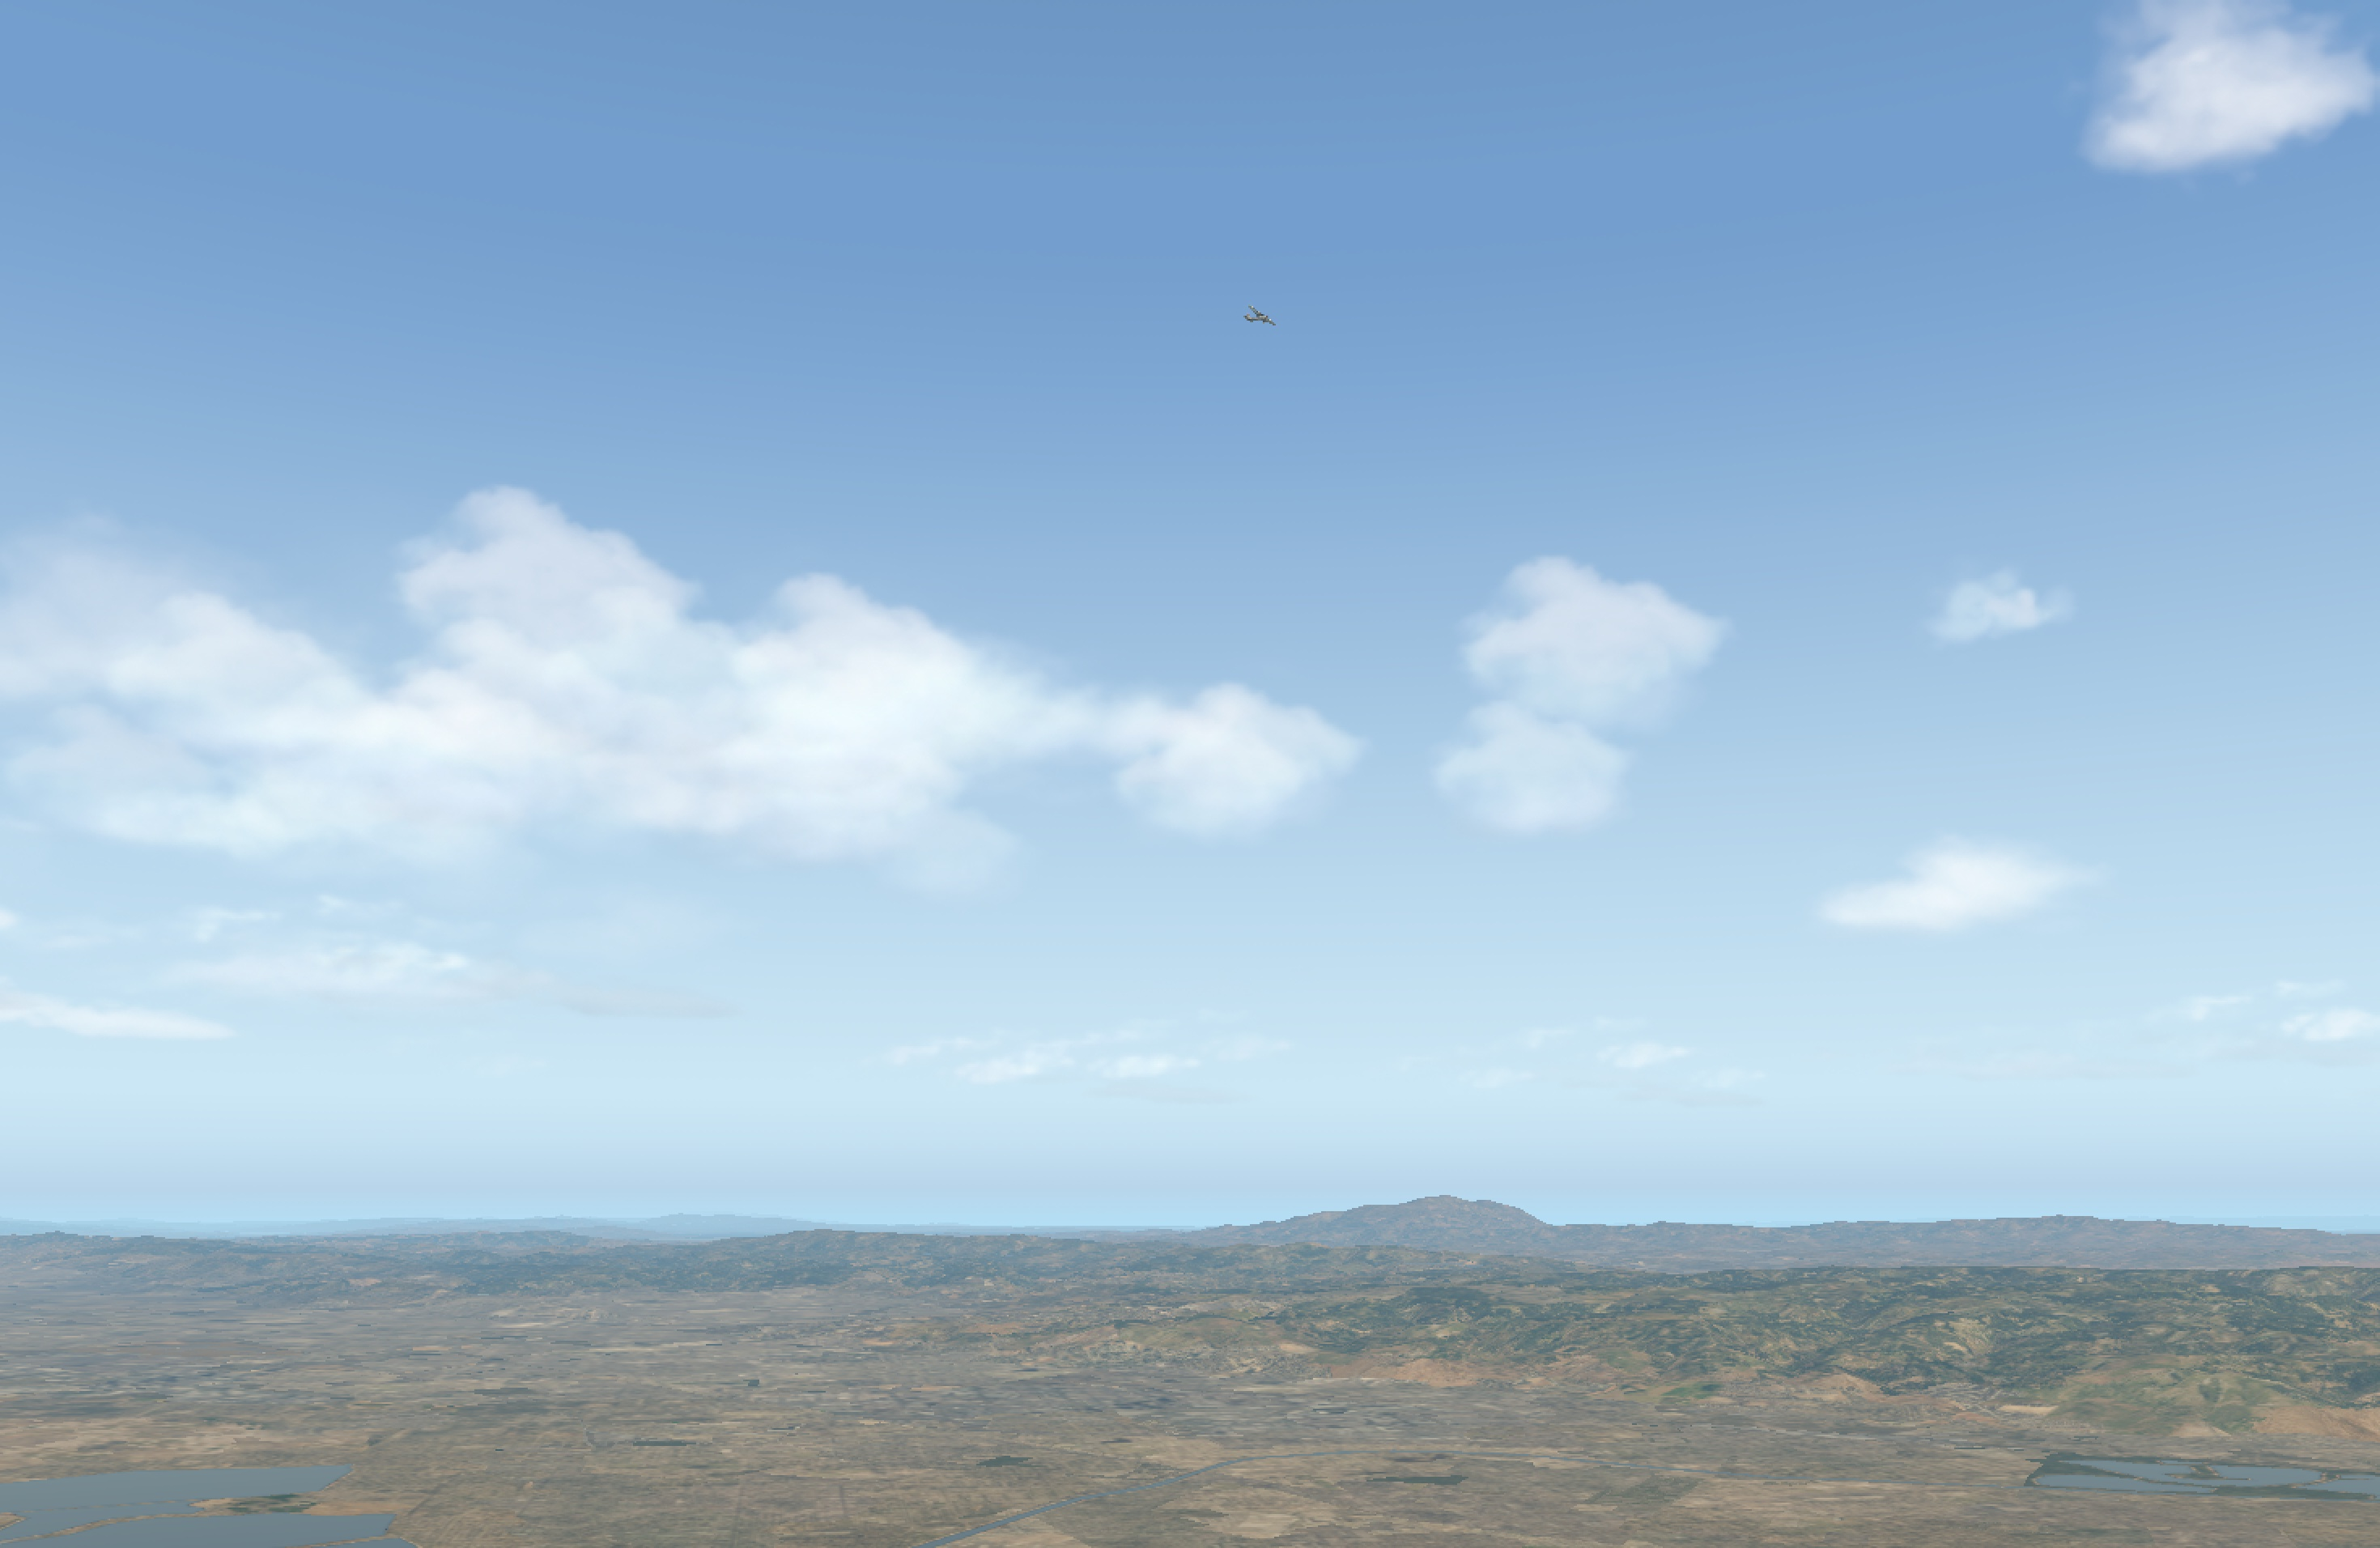aircraft: (1247, 312, 1277, 323)
